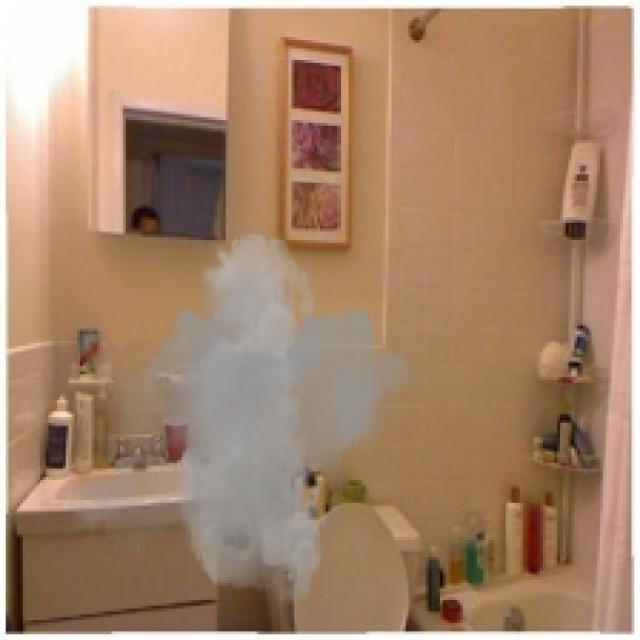Smoke: (63, 231, 420, 606)
